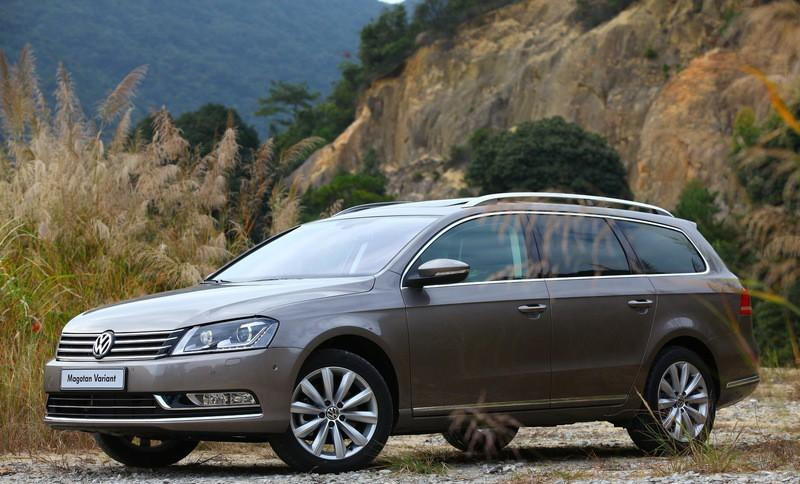Wagon: (41, 189, 760, 475)
